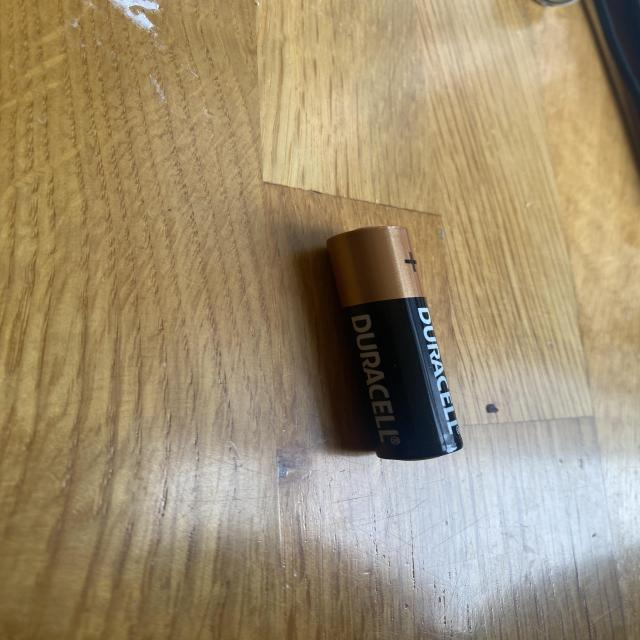AA: (324, 224, 464, 461)
